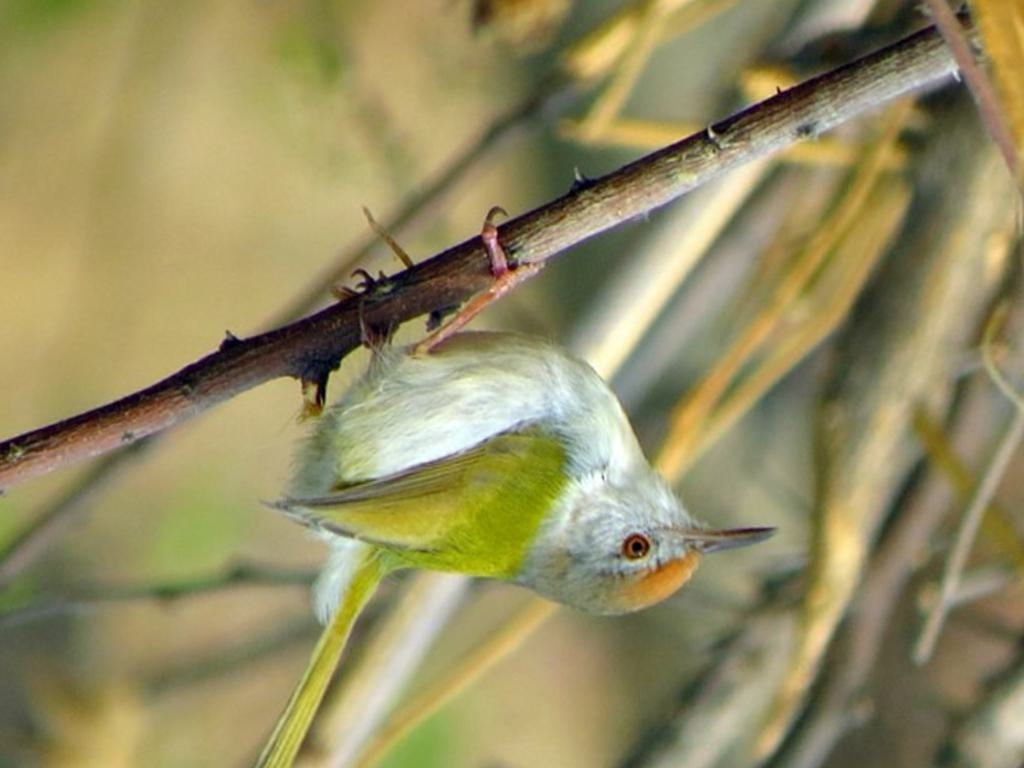tailorbird: (270, 274, 776, 632)
